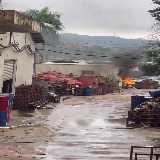fire: (121, 75, 135, 84)
